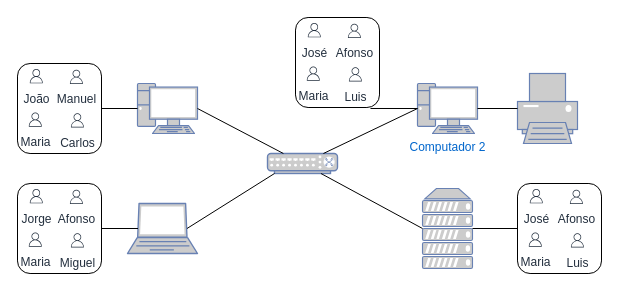
Image size: 619x307. Some labels were removed from this diagram. Each missing label, with the centre of its shape:
"Computador 1" belongs at [167,108].
"Computador 3" belongs at [162,228].
"Impressora" belongs at [547,108].
"Servidor de Arquivos" belongs at [447,228].
